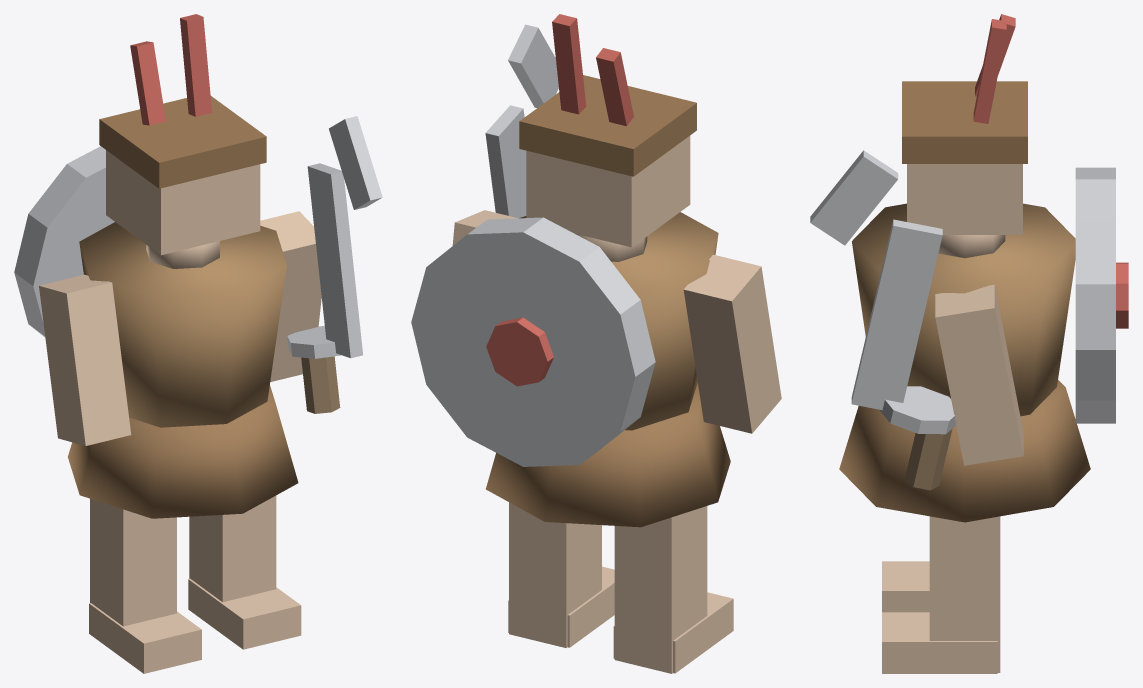
File: troop-nanman.glb
3 views of the same model, side by side, from view 1: azimuth 30°, elevation 25°; view 2: azimuth 150°, elevation 25°; view 3: azimuth 270°, elevation 25° (orthographic). The views are drawn at different scales.
Visible parts, largest first — view 1: body, skirt, arm_l, head, headband, leg_l, shield_rim, leg_r, dao_blade, arm_r, foot_r, foot_l (+6 smaller); view 2: shield_rim, skirt, arm_l, leg_l, head, body, headband, leg_r, dao_blade, shield_boss, dao_tip, feather1 (+5 smaller); view 3: body, skirt, arm_r, shield_rim, headband, dao_blade, leg_r, head, foot_r, dao_tip, dao_guard, foot_l (+4 smaller).
Part boxes in pixels (bbox=[...]): body: bbox=[79, 222, 286, 427]; skirt: bbox=[68, 385, 298, 518]; arm_l: bbox=[39, 274, 131, 445]; head: bbox=[106, 150, 260, 255]; headband: bbox=[99, 96, 266, 188]; leg_l: bbox=[90, 498, 176, 626]; shield_rim: bbox=[14, 146, 114, 337]; leg_r: bbox=[189, 495, 276, 602]; dao_blade: bbox=[307, 163, 362, 358]; arm_r: bbox=[260, 211, 321, 381]; foot_r: bbox=[188, 578, 301, 649]; foot_l: bbox=[89, 603, 201, 673]; shield_rim: bbox=[411, 217, 655, 466]; skirt: bbox=[486, 383, 730, 527]; arm_l: bbox=[683, 254, 781, 433]; leg_l: bbox=[614, 506, 707, 673]; head: bbox=[526, 135, 690, 247]; body: bbox=[519, 212, 718, 430]; headband: bbox=[519, 75, 696, 176]; leg_r: bbox=[509, 502, 601, 647]; dao_blade: bbox=[485, 105, 526, 218]; shield_boss: bbox=[486, 317, 553, 386]; dao_tip: bbox=[508, 24, 558, 107]; feather1: bbox=[552, 14, 586, 114]; body: bbox=[852, 203, 1075, 416]; skirt: bbox=[839, 380, 1090, 522]; arm_r: bbox=[935, 284, 1023, 465]; shield_rim: bbox=[1075, 167, 1115, 423]; headband: bbox=[902, 81, 1027, 163]; dao_blade: bbox=[851, 219, 942, 410]; leg_r: bbox=[929, 516, 1000, 672]; head: bbox=[907, 164, 1022, 234]; foot_r: bbox=[882, 612, 997, 673]; dao_tip: bbox=[810, 150, 898, 245]; dao_guard: bbox=[879, 386, 956, 434]; foot_l: bbox=[882, 561, 929, 612].
Size of the model in its own units: 0.137 by 0.2732 by 0.1265.
